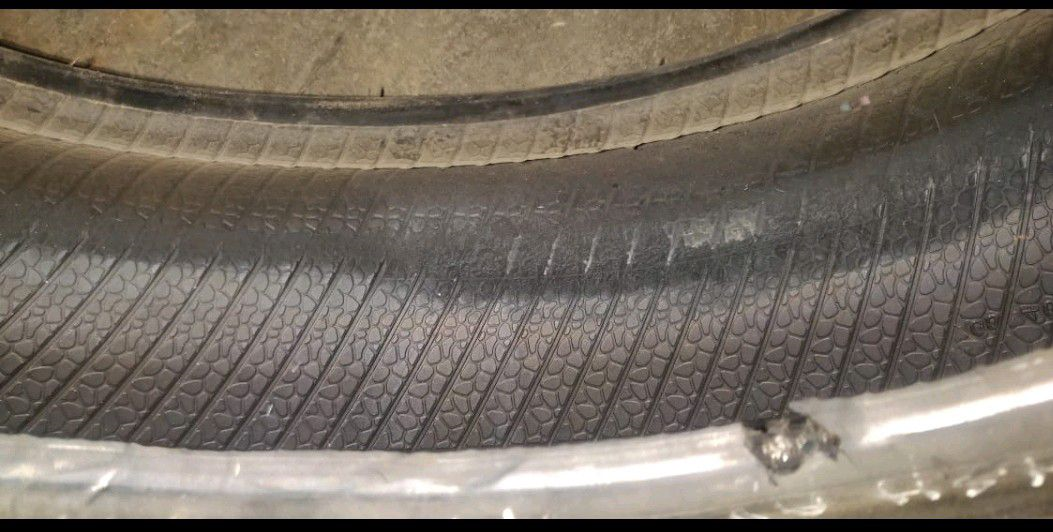bead_damage: (731, 391, 867, 487)
